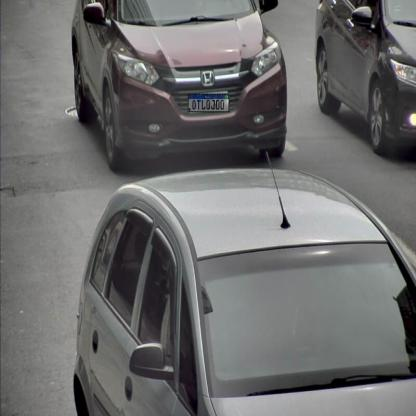PlacaM: (188, 94, 229, 112)
